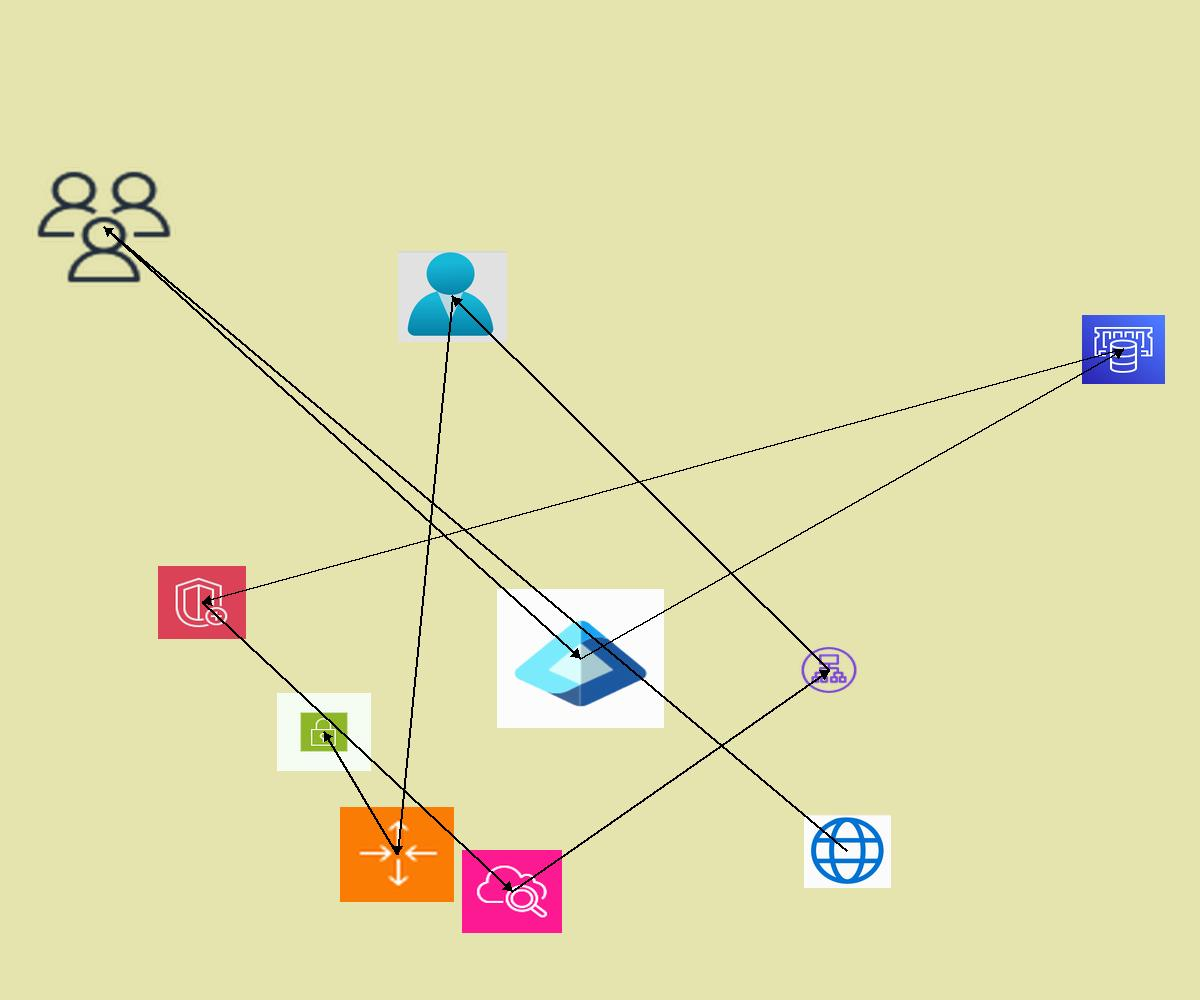AWS-CloudWatch: (462, 850, 562, 933)
AWS-ElastiCache: (1082, 315, 1165, 384)
AWS-Public-subnet: (277, 693, 371, 771)
AWS-Res_Elastic-Load-Balancing_Application-Load-Balancer: (799, 645, 859, 695)
AWS-Res_Users: (32, 167, 176, 287)
AWS-Scaling-group: (340, 807, 454, 902)
AWS-Shield: (158, 566, 246, 639)
Azure_http: (804, 815, 891, 888)
Azure_microsoft_entra: (497, 589, 664, 728)
Azure_users: (398, 251, 507, 342)
